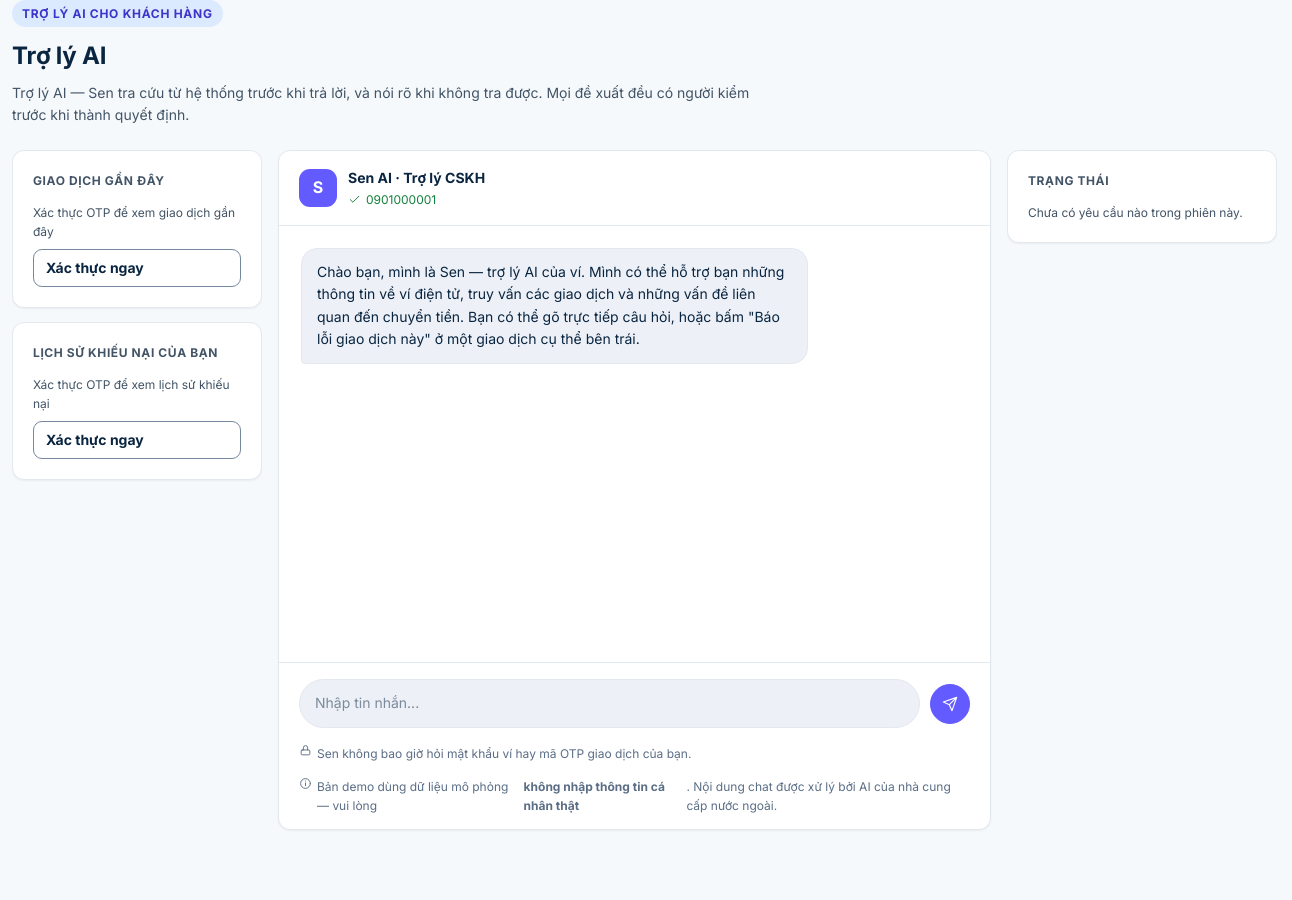
Test case: ChatClient — rail lịch sử khiếu nại (Lỗi 12) › đã xác thực OTP -> lịch sử khiếu nại hiện đúng dữ liệu
Click the button "Xác thực ngay" below "Xác thực OTP để xem giao dịch gần đây" at (137, 268), box [33,249,241,287]
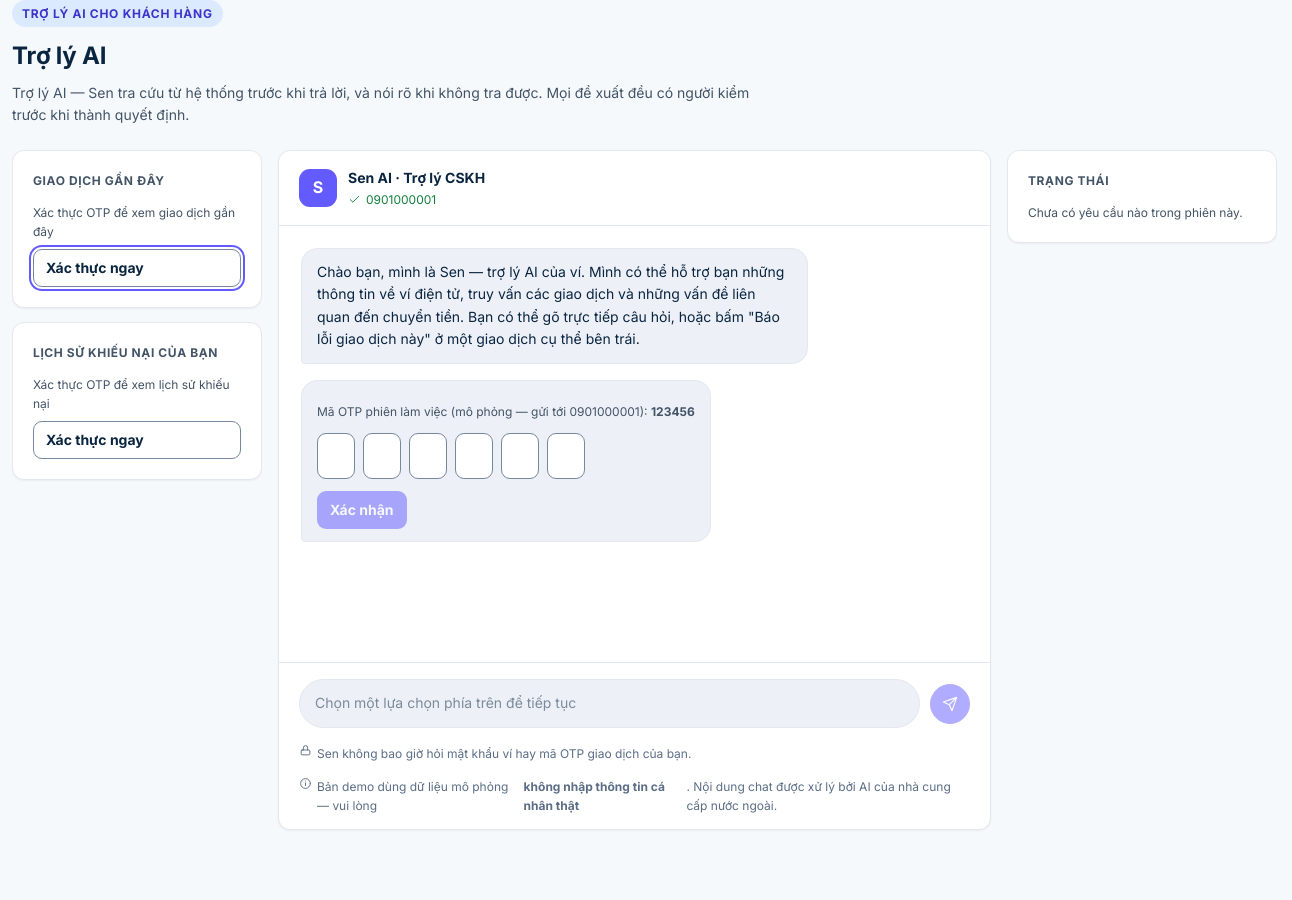
Expected: the number of fields with class "otp-box" is 6
Type "1" into the 1st field with class "otp-box" at (336, 456), box [317,433,355,479]
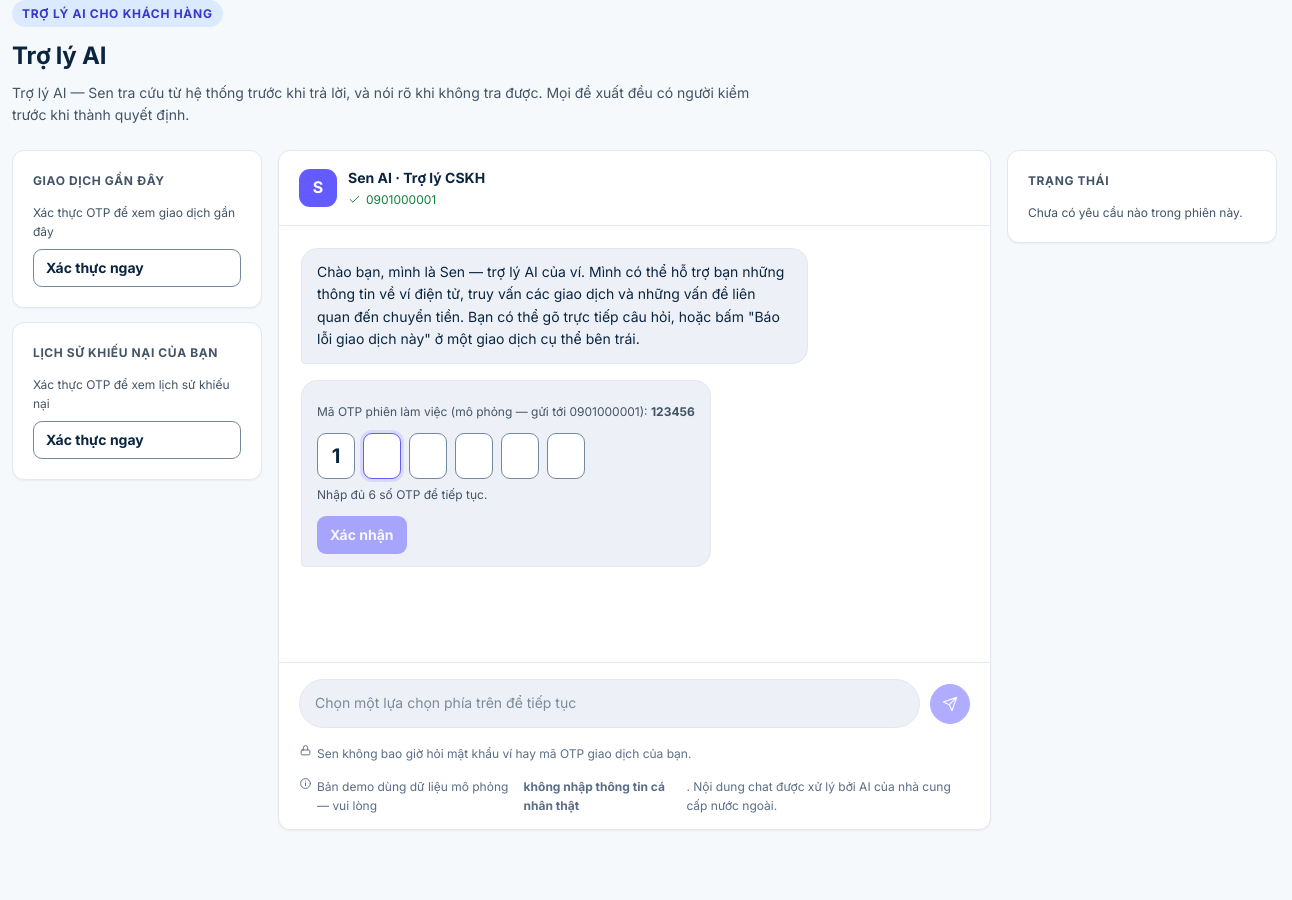
Type "2" into the 2nd field with class "otp-box" at (382, 456), box [363,433,401,479]
Type "3" into the 3rd field with class "otp-box" at (428, 456), box [409,433,447,479]
Type "4" into the 4th field with class "otp-box" at (474, 456), box [455,433,493,479]
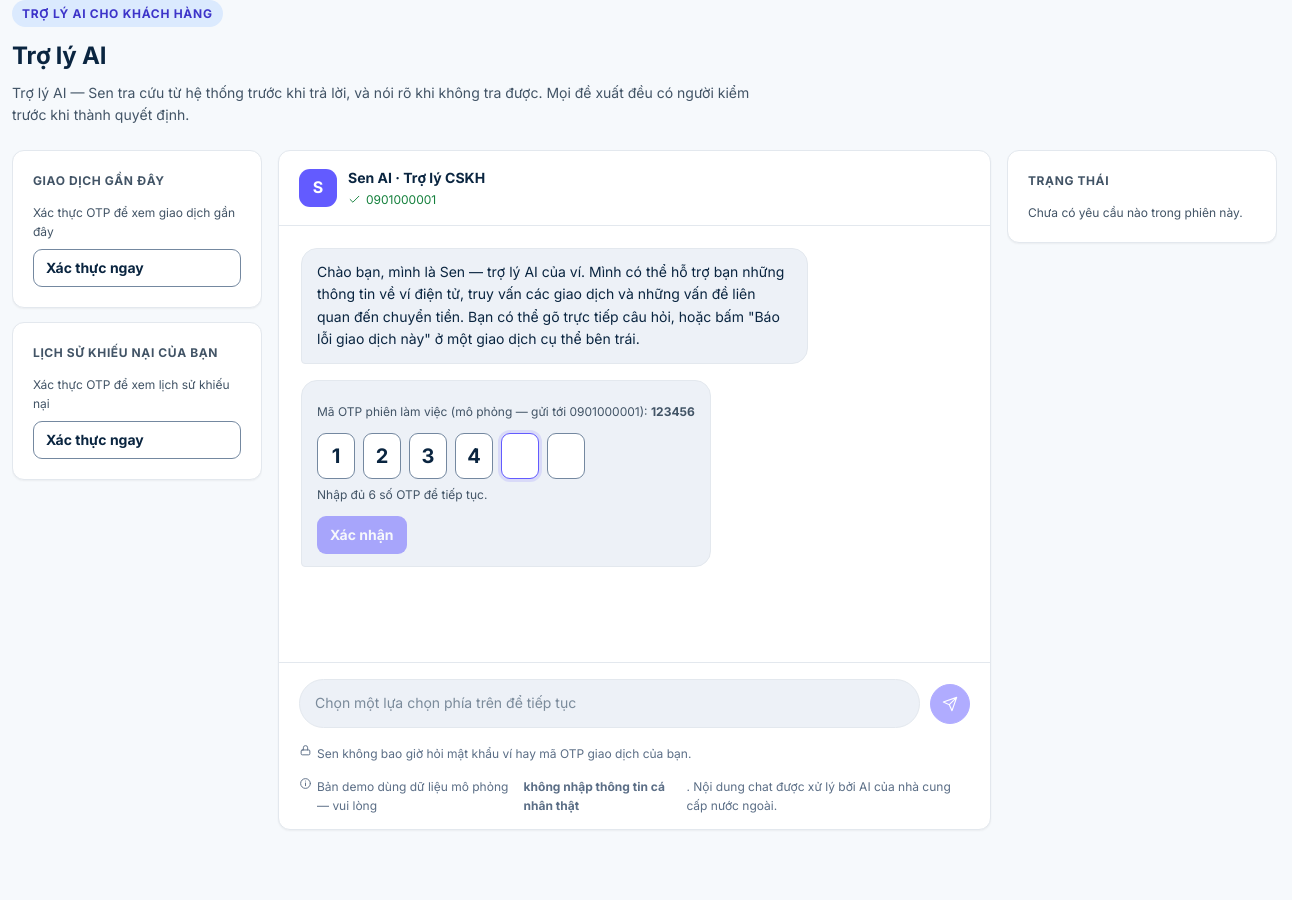
Type "5" into the 5th field with class "otp-box" at (520, 456), box [501,433,539,479]
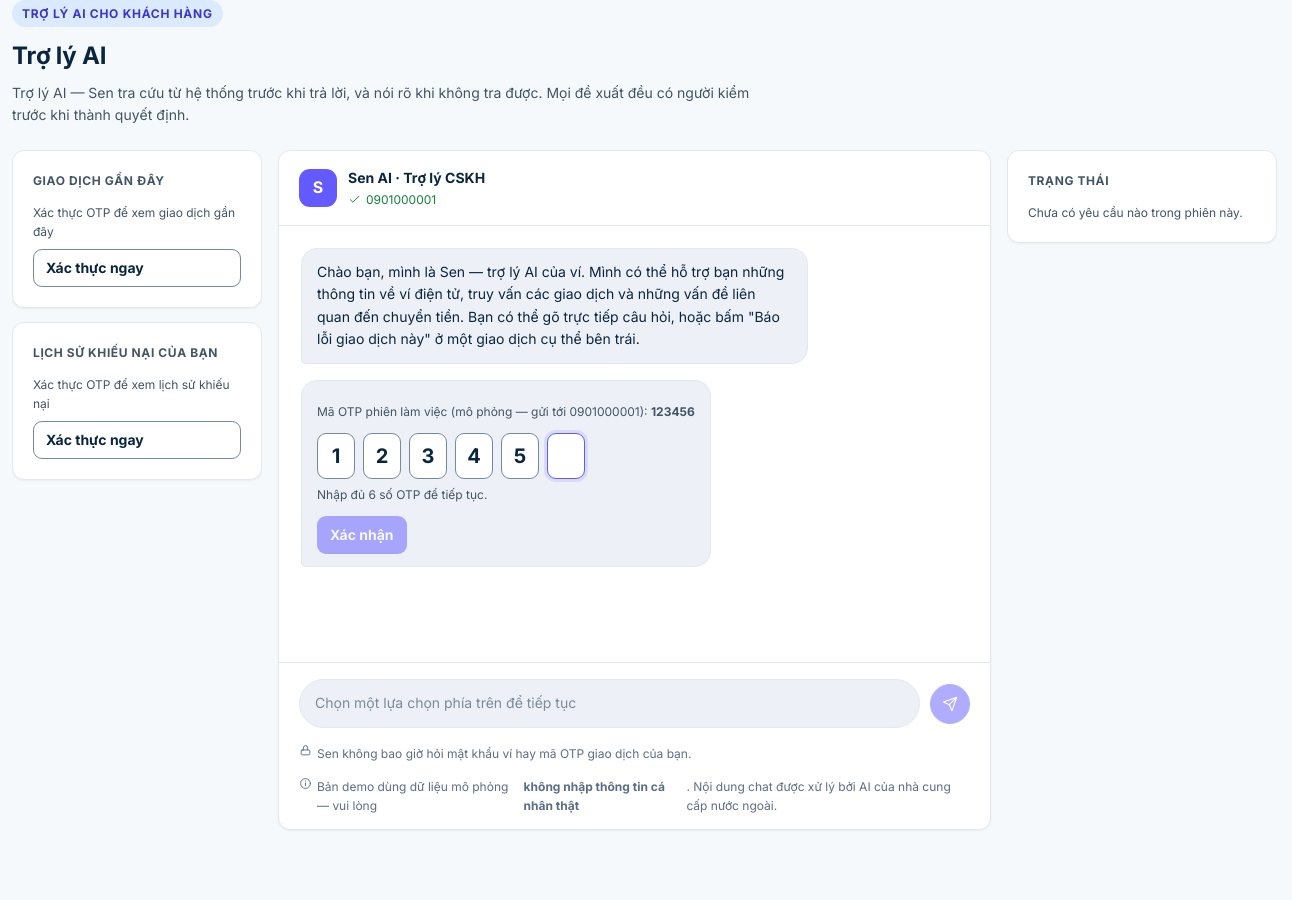
Type "6" into the 6th field with class "otp-box" at (566, 456), box [547,433,585,479]
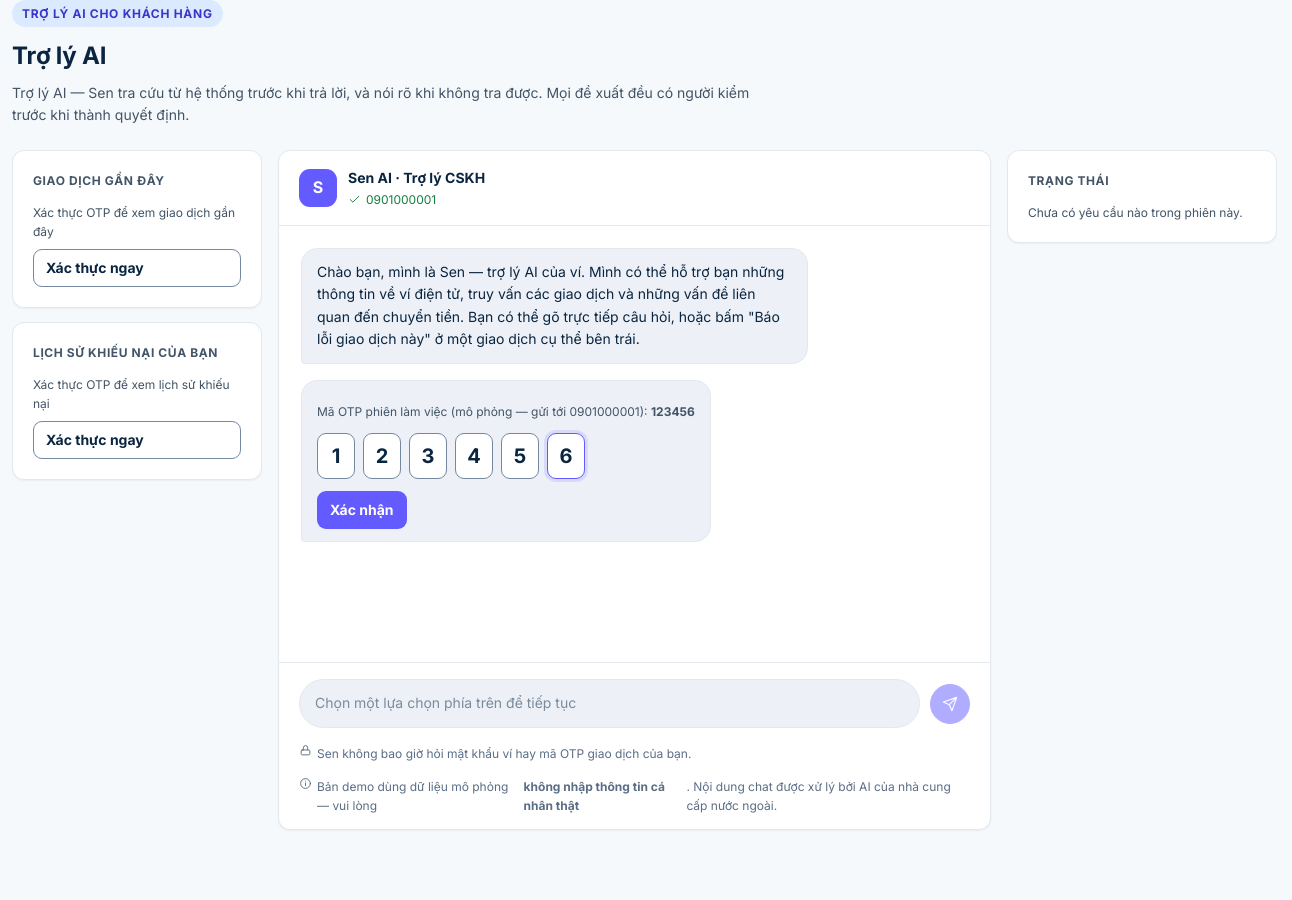
Click the button "Xác nhận" at (362, 510), box [317,491,406,529]
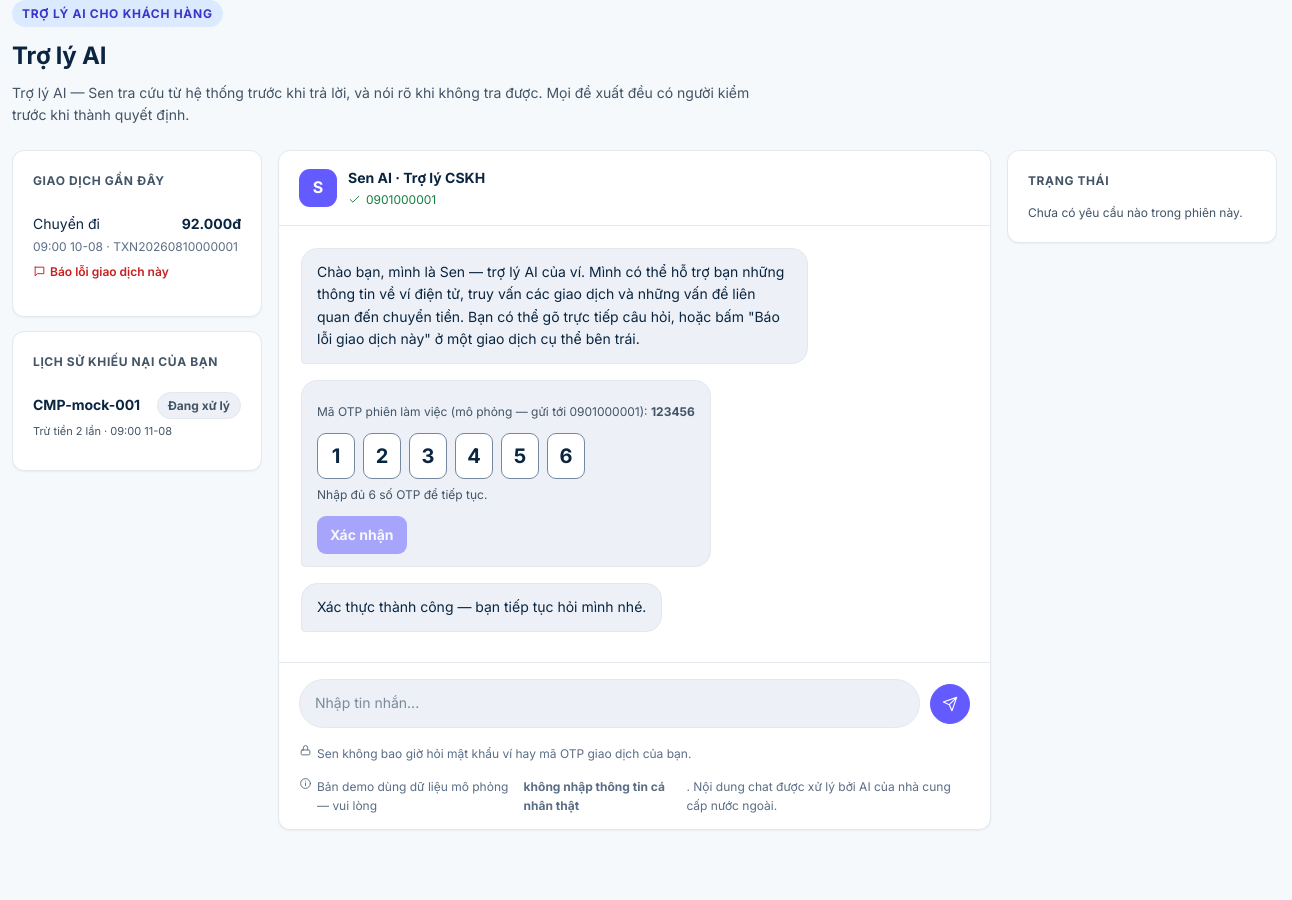
Expected: the text "CMP-mock-001" is shown, [33,394,140,417]
Expected: the text "Đang xử lý" is shown, [157,392,241,419]
